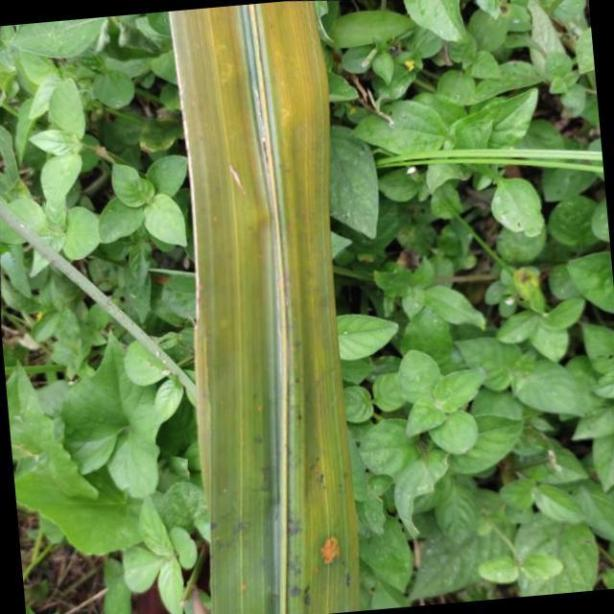Megnesium: (164, 1, 355, 614)
